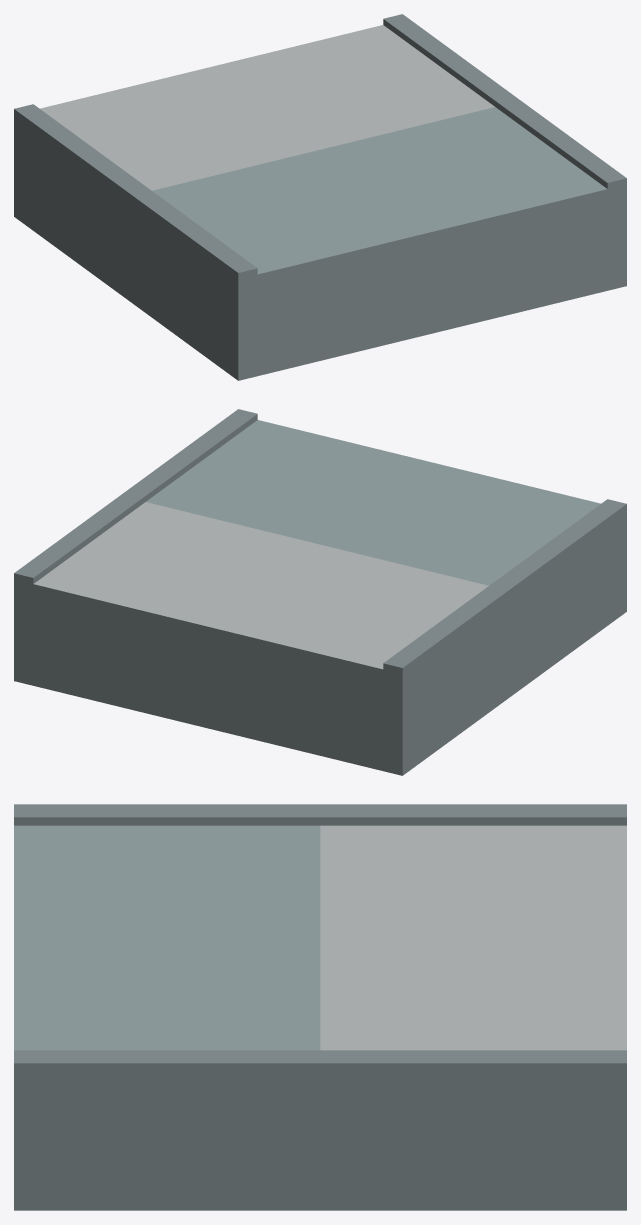
File: road_grey_1.fbx
3 views of the same model, one above another, from view 1: azimuth 30°, elevation 25°; view 2: azimuth 150°, elevation 25°; view 3: azimuth 270°, elevation 25° (orthographic). The views are drawn at different scales.
Visible parts, largest first — view 1: road_grey_1; view 2: road_grey_1; view 3: road_grey_1.
Part boxes in pixels (bbox=[...]): road_grey_1: bbox=[14, 14, 626, 380]; road_grey_1: bbox=[14, 409, 626, 775]; road_grey_1: bbox=[14, 804, 626, 1210].
Size of the model in its own units: 2 by 0.5304 by 2.
